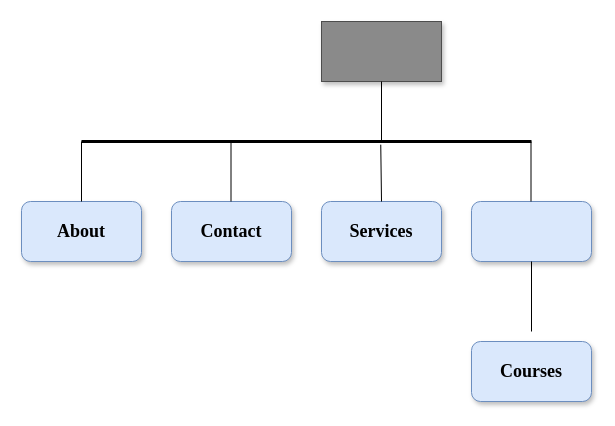
Image size: 615x426. Some labels were removed from this diagram. The centre of each missing label's shape, as x and y in pixels:
"Home" belongs at (382,52).
"Login" belongs at (532,232).
